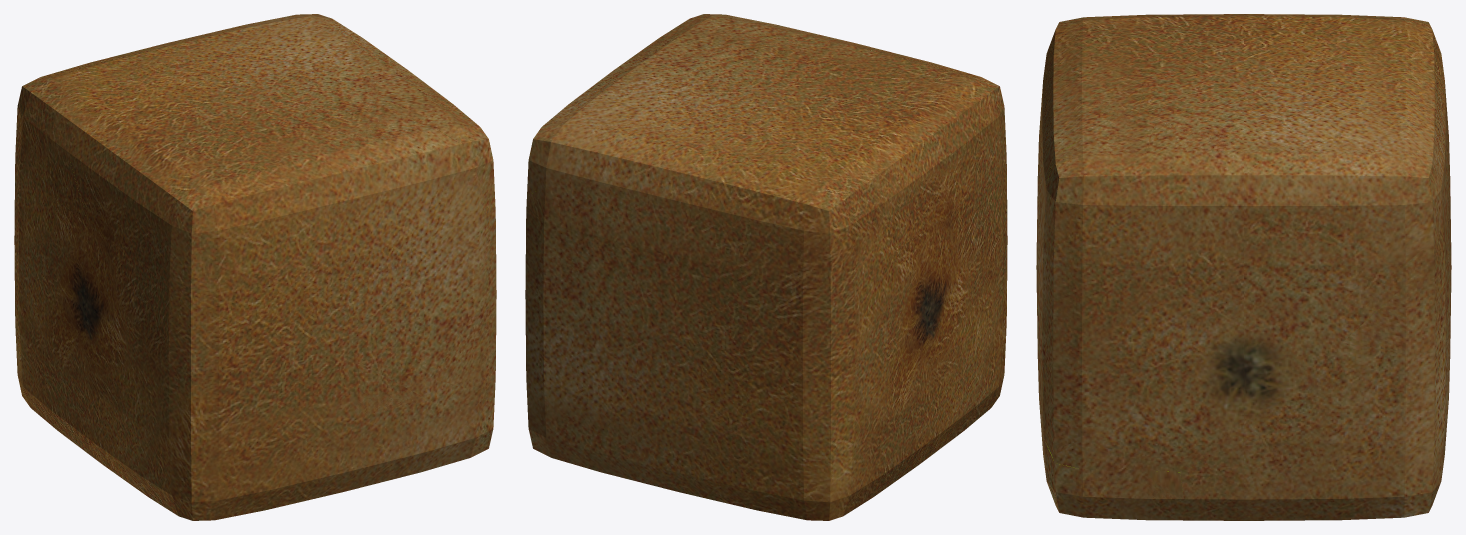
Rendered from SqKiwi.fbx.
The picture shows the model from 3 angles, left to right: view 1: azimuth 30°, elevation 25°; view 2: azimuth 150°, elevation 25°; view 3: azimuth 270°, elevation 25°; orthographic projection. The views are drawn at different scales.
Parts seen in each view (by area): view 1: SqKiwi, SqKiwi_cell, SqKiwi_cell.001, SqKiwi_cell.004, SqKiwi_cell.003; view 2: SqKiwi, SqKiwi_cell.002, SqKiwi_cell.004, SqKiwi_cell, SqKiwi_cell.001, SqKiwi_cell.003; view 3: SqKiwi, SqKiwi_cell.003, SqKiwi_cell, SqKiwi_cell.002, SqKiwi_cell.001.
Boxes of the visible parts, <box> form: SqKiwi: <box>14,14,496,520</box>; SqKiwi_cell: <box>64,58,478,388</box>; SqKiwi_cell.001: <box>91,267,494,520</box>; SqKiwi_cell.004: <box>15,71,92,440</box>; SqKiwi_cell.003: <box>273,14,493,215</box>; SqKiwi: <box>525,14,1007,520</box>; SqKiwi_cell.002: <box>526,195,744,484</box>; SqKiwi_cell.004: <box>723,188,930,520</box>; SqKiwi_cell: <box>717,18,1004,210</box>; SqKiwi_cell.001: <box>930,176,1007,441</box>; SqKiwi_cell.003: <box>527,14,734,195</box>; SqKiwi: <box>1036,14,1451,520</box>; SqKiwi_cell.003: <box>1046,104,1443,462</box>; SqKiwi_cell: <box>1037,14,1397,460</box>; SqKiwi_cell.002: <box>1190,87,1450,520</box>; SqKiwi_cell.001: <box>1036,292,1183,519</box>.
Bounding box in the file's own units: 9.85 × 9.85 × 9.85.
